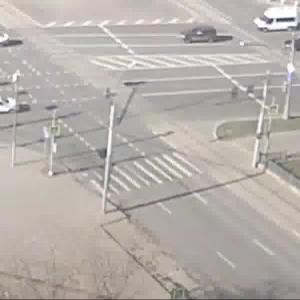car: (175, 23, 222, 49), (254, 8, 300, 32), (1, 93, 23, 118), (1, 23, 12, 49)
